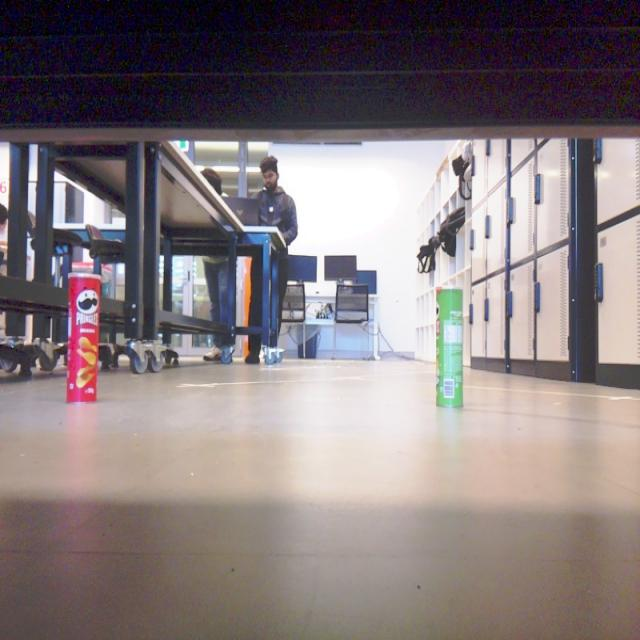greenpringles: (431, 278, 482, 429)
redpringles: (55, 260, 118, 414)
